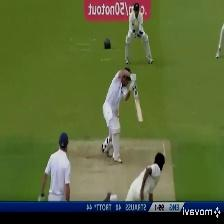batsman: (98, 66, 144, 164)
